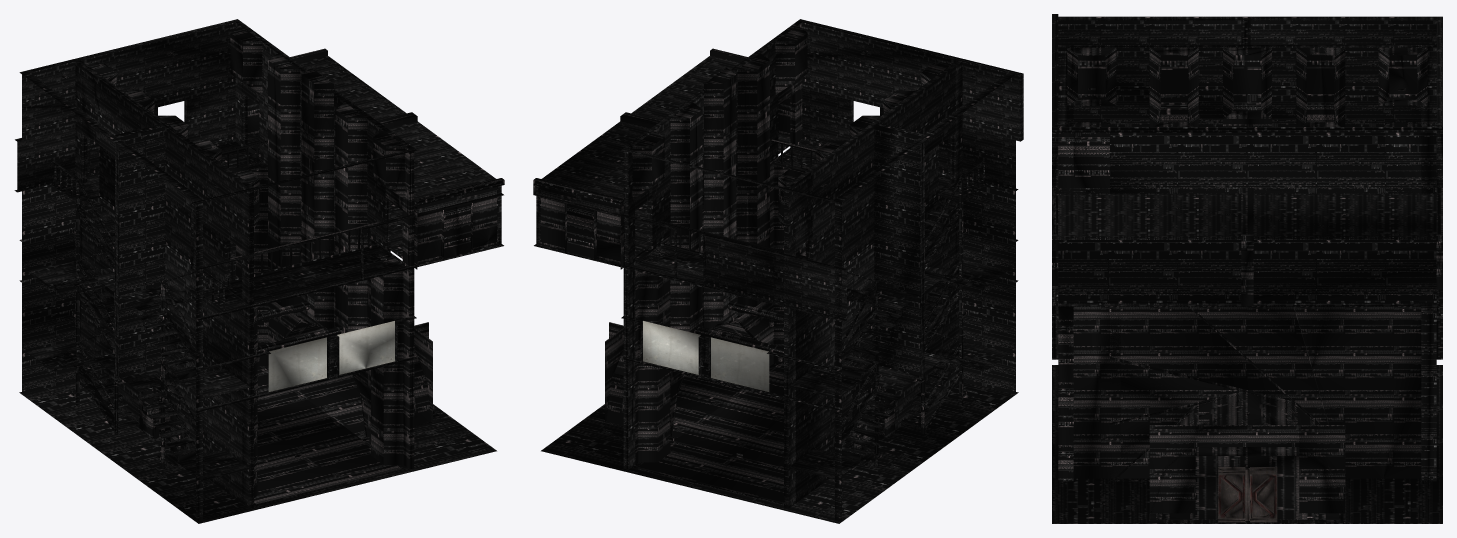
The model's file is testroom_opt.obj.
3 renders of one model, left to right at view 1: azimuth 30°, elevation 25°; view 2: azimuth 150°, elevation 25°; view 3: azimuth 270°, elevation 25°, orthographic. The views are drawn at different scales.
Bounding box in the file's own units: 102 × 104 × 102.
Materials: 14 (14 with a texture image).
